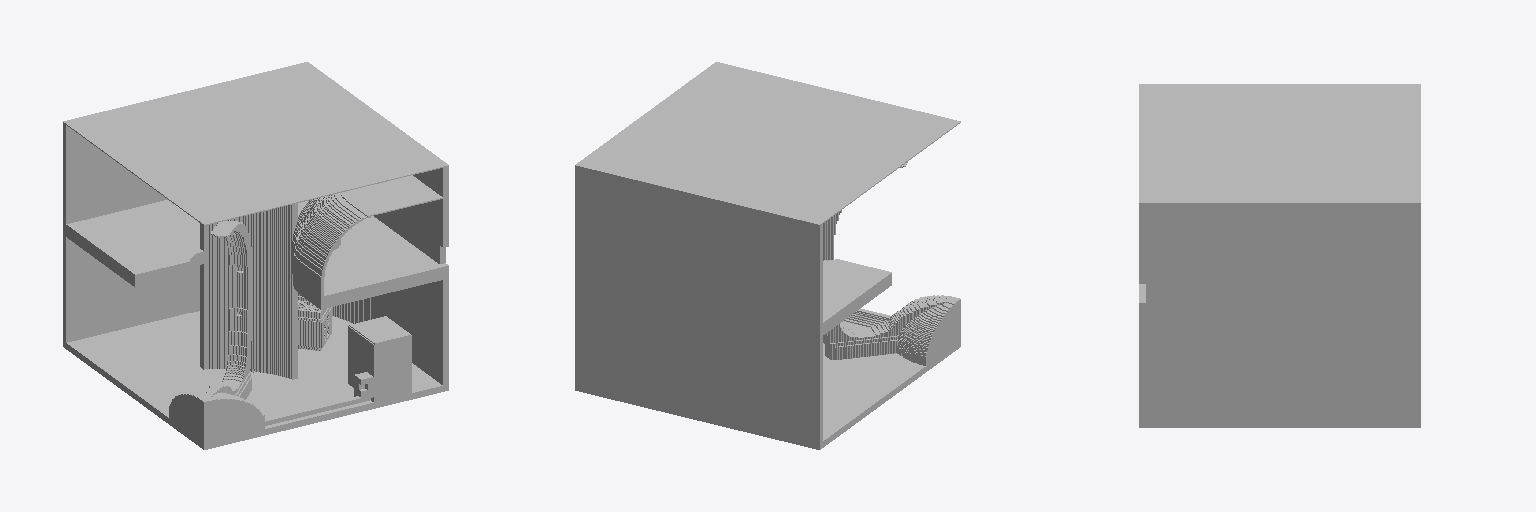
Rendered from FinalRoomBack_roof.obj.
3 views of the same model, side by side, from view 1: azimuth 30°, elevation 25°; view 2: azimuth 150°, elevation 25°; view 3: azimuth 270°, elevation 25° (orthographic).
Visible parts, largest first — view 1: object 1; view 2: object 1; view 3: object 1.
Boxes of the visible parts, <box> form: object 1: <box>63,62,448,449</box>; object 1: <box>575,62,960,449</box>; object 1: <box>1139,84,1420,427</box>.
Bounding box in the file's own units: 24 × 21.1 × 24.